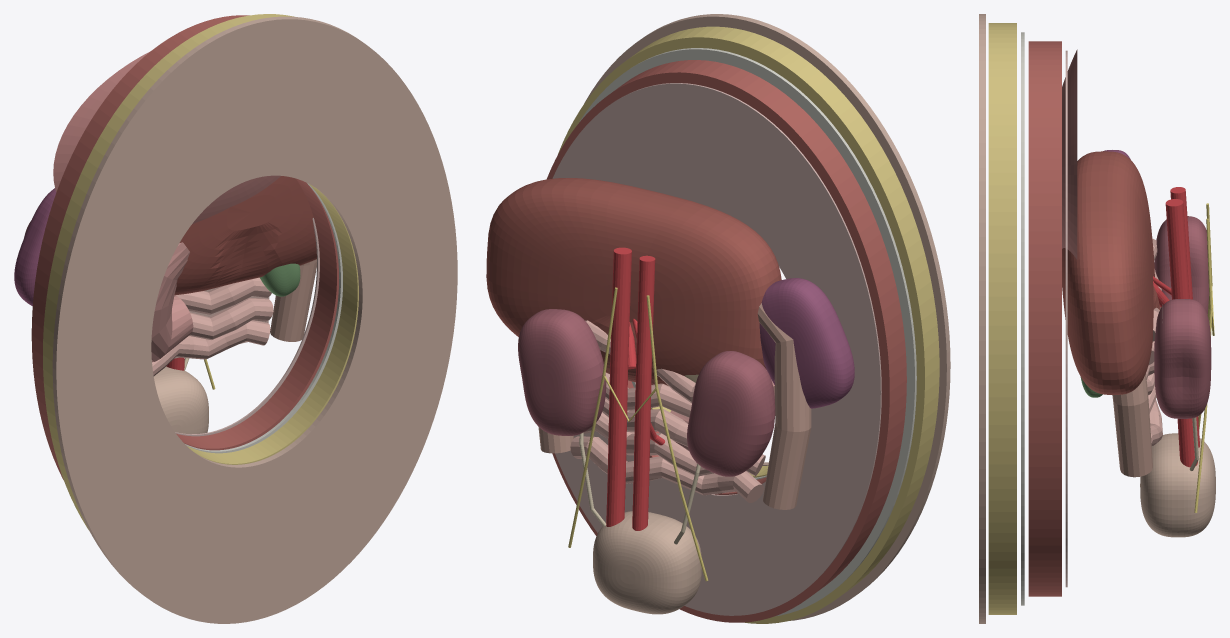
Rendered from dranmar_patient_open_abdomen.glb.
3 views of the same model, side by side, from view 1: azimuth 30°, elevation 25°; view 2: azimuth 150°, elevation 25°; view 3: azimuth 270°, elevation 25° (orthographic). The views are drawn at different scales.
Parts seen in each view (by area): view 1: skin, abdominal_wall, subcutaneous_fat, liver, small_bowel, diaphragm, stomach, bladder, colon, spleen, fascia, peritoneum (+1 smaller); view 2: peritoneum, liver, abdominal_wall, subcutaneous_fat, skin, major_vessels, fascia, right_kidney, left_kidney, bladder, small_bowel, spleen (+3 smaller); view 3: abdominal_wall, liver, subcutaneous_fat, right_kidney, bladder, skin, major_vessels, colon, diaphragm, left_kidney, fascia, peritoneum (+2 smaller).
Boxes of the visible parts, left/top/right/bottom form: skin: left=52, top=16, right=457, bottom=623; abdominal_wall: left=31, top=15, right=339, bottom=479; subcutaneous_fat: left=43, top=14, right=358, bottom=529; liver: left=174, top=176, right=316, bottom=295; small_bowel: left=152, top=277, right=273, bottom=376; diaphragm: left=53, top=51, right=280, bottom=224; stomach: left=151, top=242, right=193, bottom=362; bladder: left=154, top=366, right=208, bottom=434; colon: left=270, top=259, right=316, bottom=341; spleen: left=14, top=188, right=56, bottom=305; fascia: left=185, top=183, right=342, bottom=453; peritoneum: left=175, top=218, right=319, bottom=436; peritoneum: left=552, top=83, right=881, bottom=615; liver: left=486, top=178, right=781, bottom=385; abdominal_wall: left=547, top=60, right=906, bottom=622; subcutaneous_fat: left=558, top=26, right=939, bottom=623; skin: left=584, top=14, right=950, bottom=620; major_vessels: left=606, top=247, right=664, bottom=530; fascia: left=578, top=48, right=916, bottom=616; right_kidney: left=518, top=309, right=606, bottom=435; left_kidney: left=687, top=351, right=775, bottom=476; bladder: left=593, top=511, right=701, bottom=614; small_bowel: left=570, top=320, right=765, bottom=502; spleen: left=759, top=278, right=854, bottom=408; abdominal_wall: left=1028, top=41, right=1061, bottom=596; liver: left=1062, top=151, right=1160, bottom=394; subcutaneous_fat: left=988, top=23, right=1016, bottom=614; right_kidney: left=1154, top=299, right=1211, bottom=418; bladder: left=1140, top=433, right=1215, bottom=537; skin: left=979, top=14, right=985, bottom=623; major_vessels: left=1153, top=187, right=1199, bottom=467; colon: left=1112, top=373, right=1152, bottom=477; diaphragm: left=1062, top=49, right=1077, bottom=259; left_kidney: left=1154, top=216, right=1209, bottom=314; fascia: left=1021, top=32, right=1024, bottom=605; peritoneum: left=1065, top=50, right=1067, bottom=587.
Bounding box in the file's own units: 0.38 × 0.54 × 0.2.
